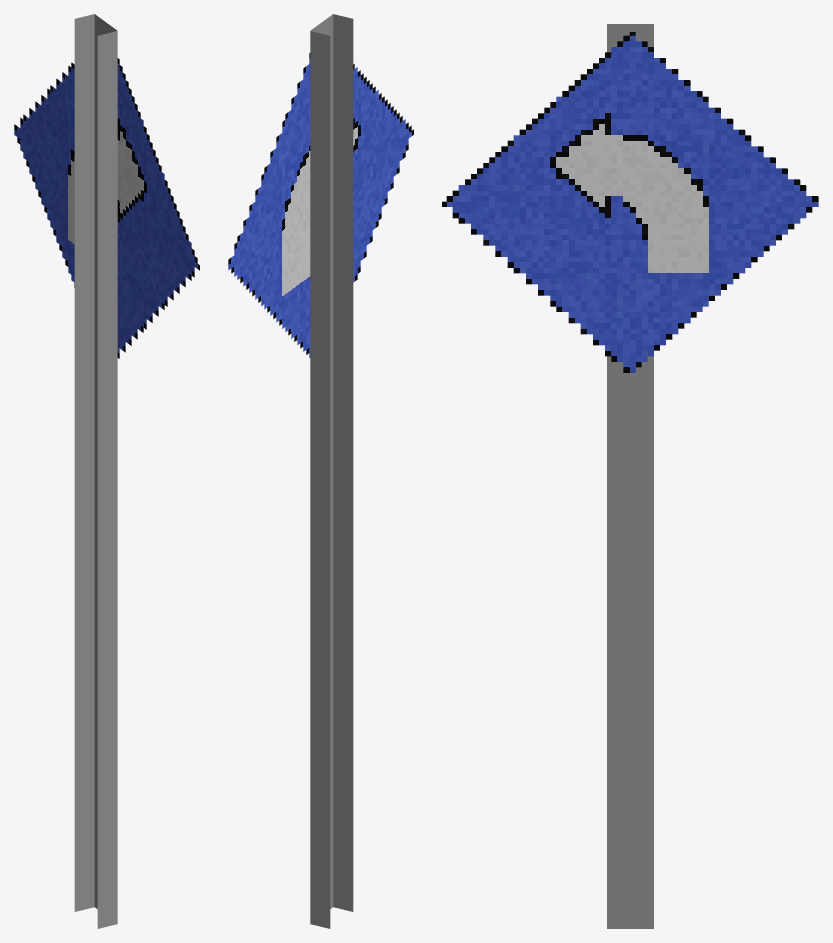
Rendered from sign_leftturn.fbx.
The picture shows the model from 3 angles, left to right: view 1: azimuth 30°, elevation 25°; view 2: azimuth 150°, elevation 25°; view 3: azimuth 270°, elevation 25°; orthographic projection.
Visible parts, largest first — view 1: Sign_Diamond.003; view 2: Sign_Diamond.003; view 3: Sign_Diamond.003.
Boxes of the visible parts, left/top/right/bottom form: Sign_Diamond.003: left=14, top=14, right=199, bottom=928; Sign_Diamond.003: left=228, top=14, right=413, bottom=928; Sign_Diamond.003: left=442, top=24, right=818, bottom=928.
Size of the model in its own units: 5.18 by 213 by 80.53.
Materials: 2 (1 with a texture image).
